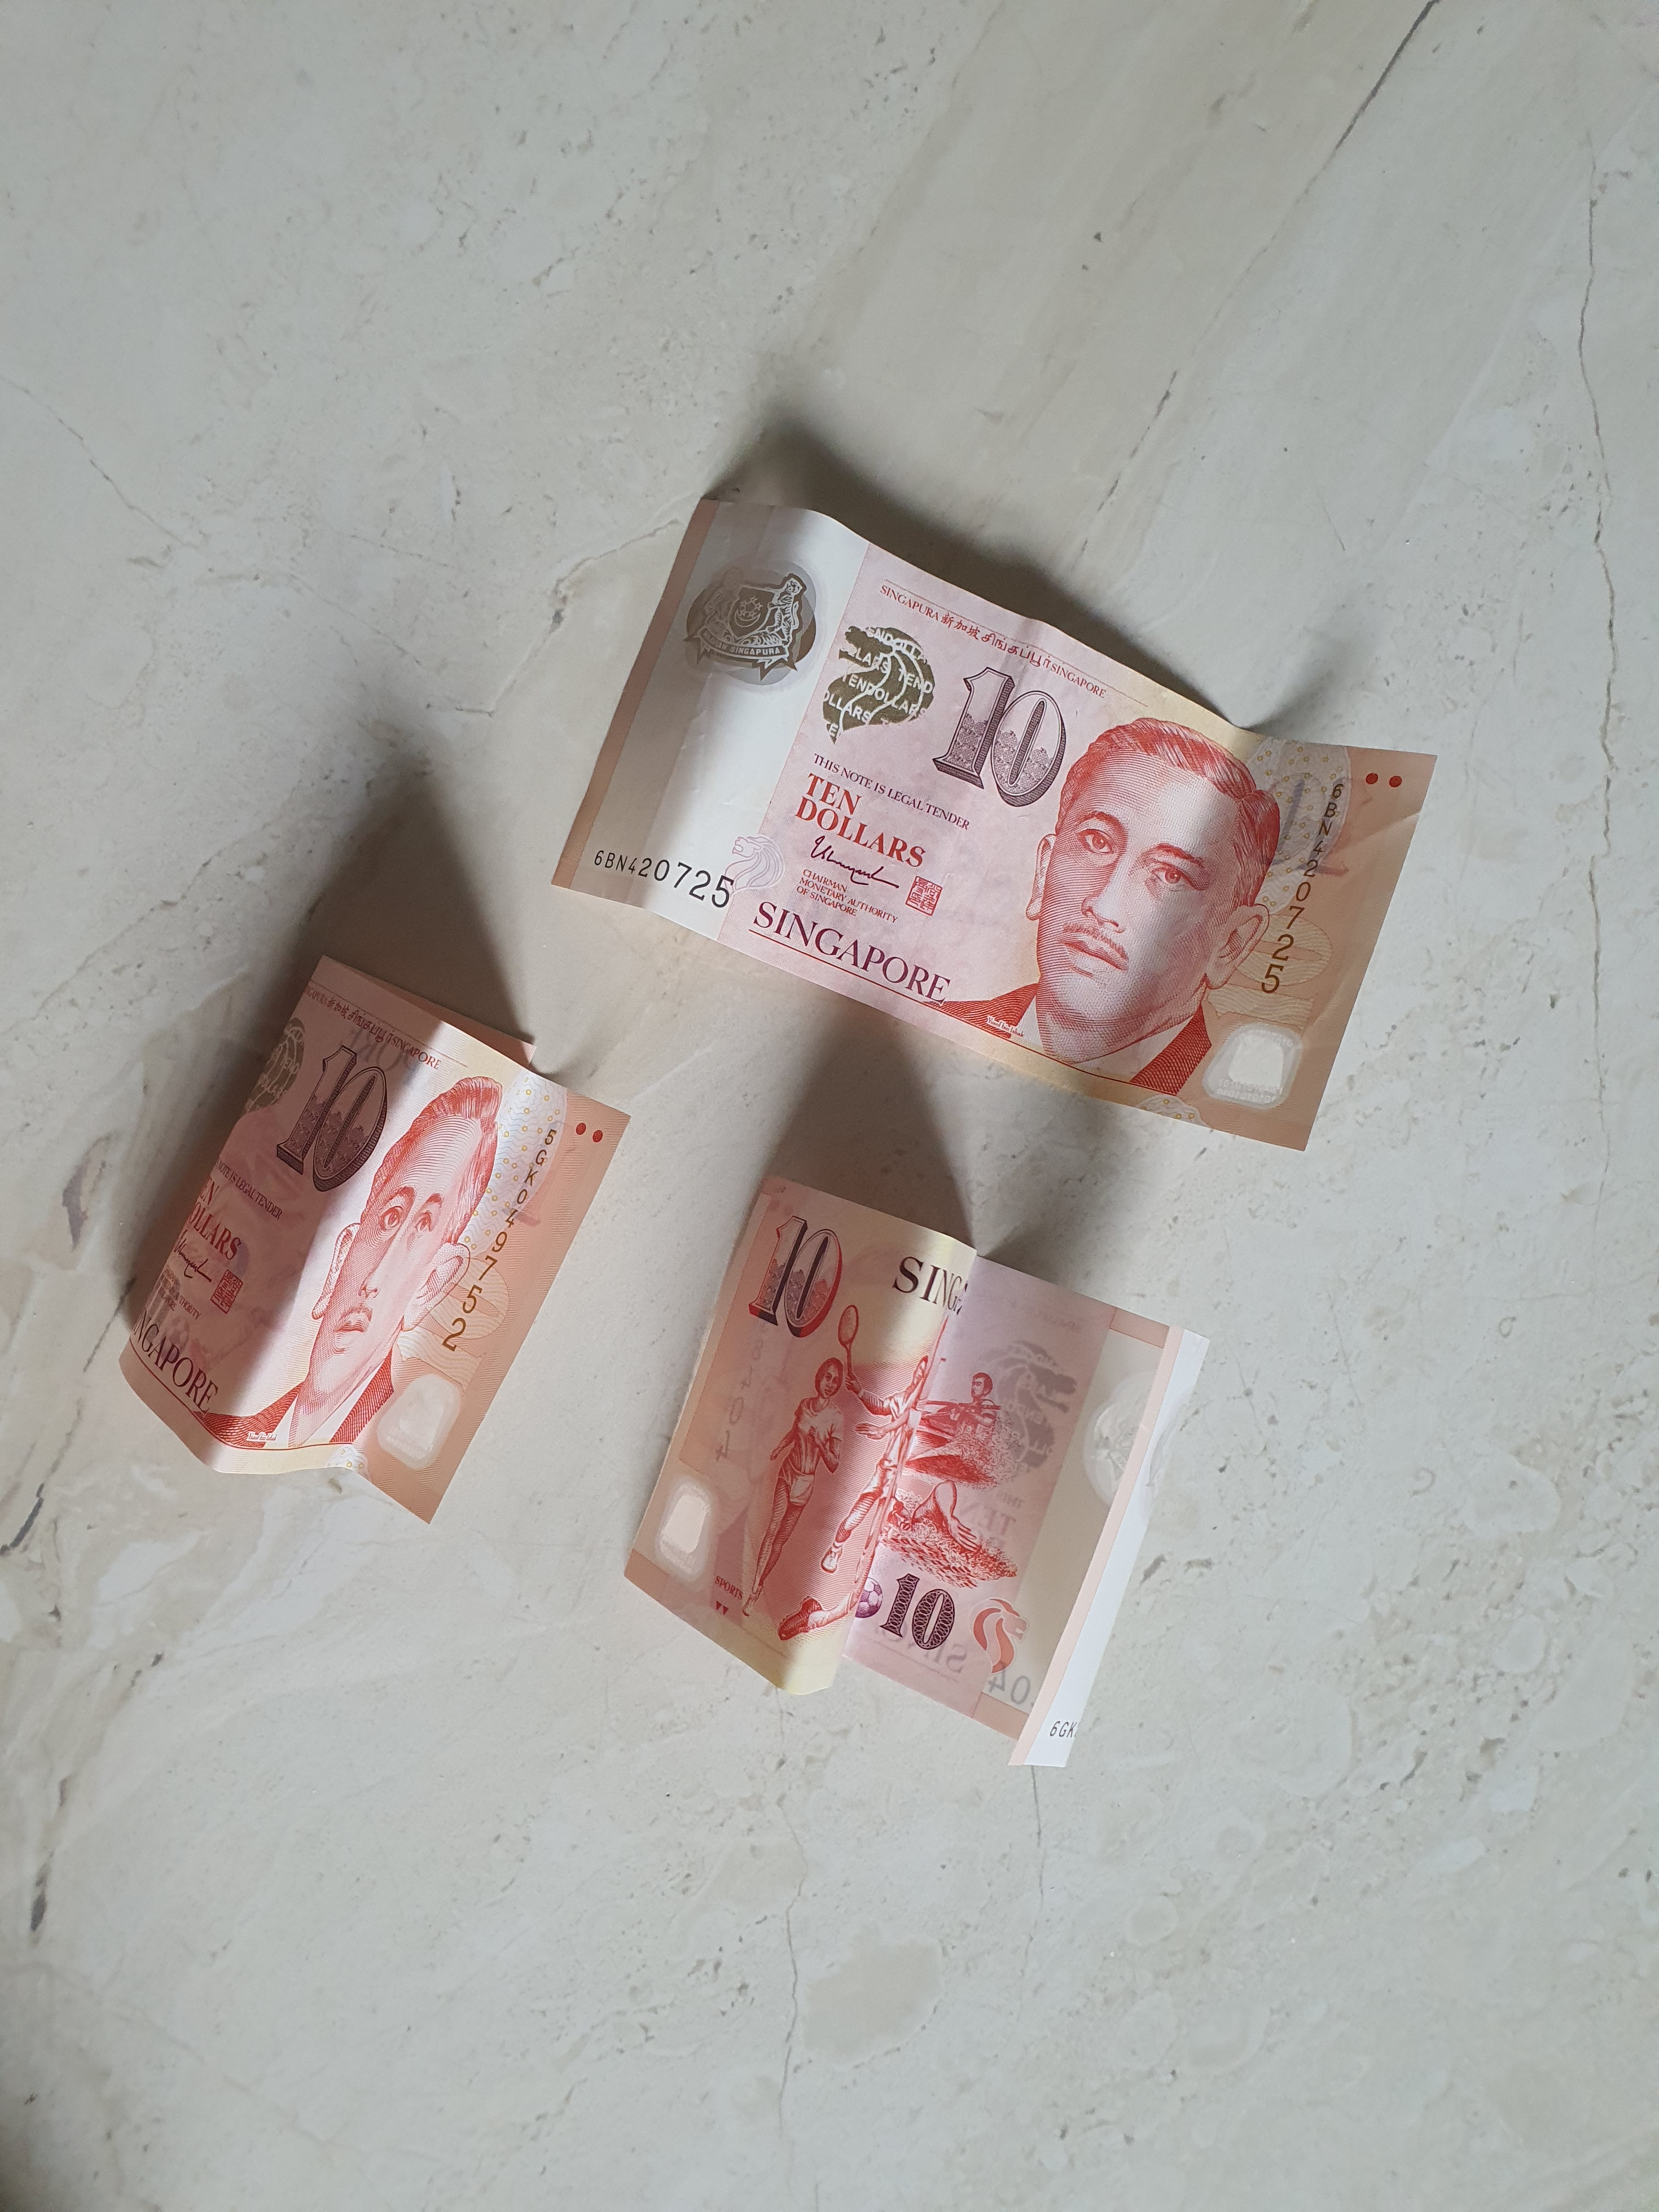$10: (549, 498, 1438, 1151), (622, 1172, 1213, 1770), (117, 953, 633, 1527)
